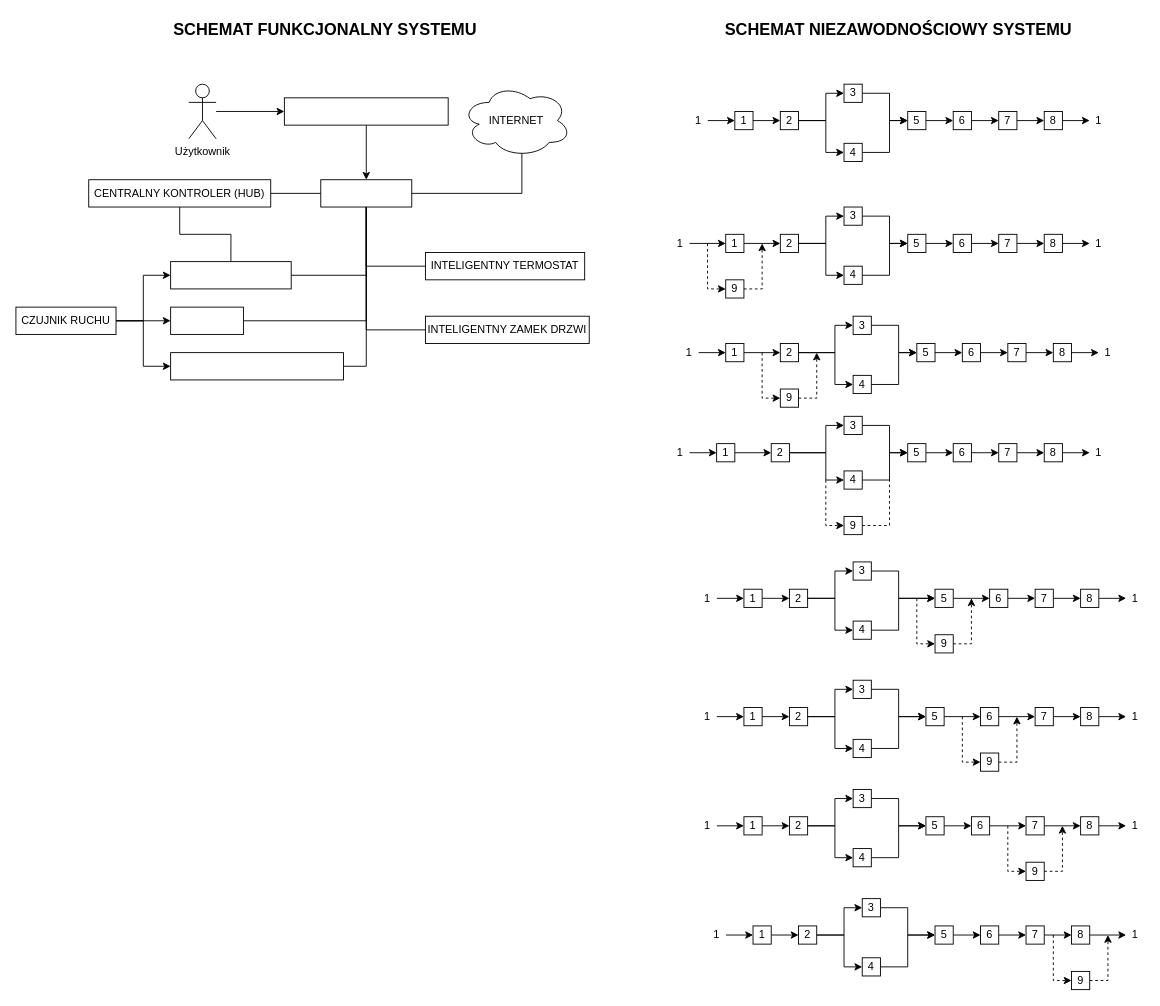
The diagram is 1160 pixels wide and 1006 high, and some of its shapes have lost their labels. Each missing label, with the centre of its shape:
APLIKACJA MOBILNA / WWW: point 365,111
INTELIGENTNA ŻARÓWKA LED: point 257,366
KAMERA IP: point 206,320
ROUTER WI-FI: point 366,193
SYSTEM ALARMOWY: point 230,275
